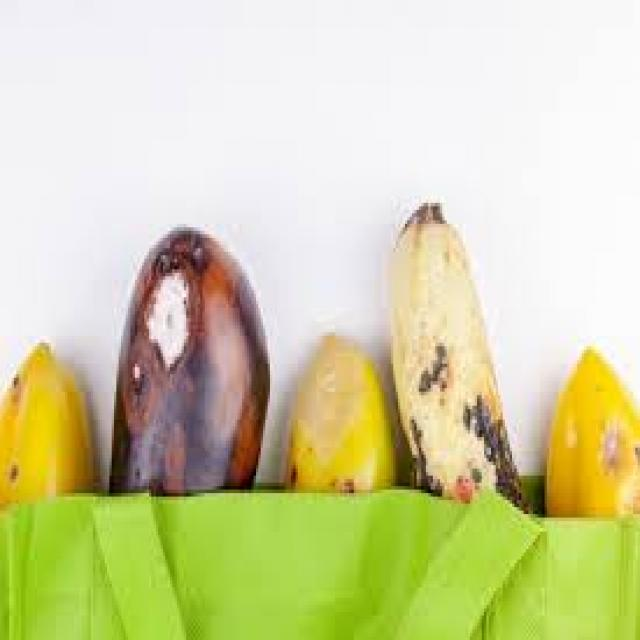organic waste: (386, 196, 526, 504), (107, 223, 268, 490), (282, 325, 396, 490), (544, 342, 638, 518), (0, 335, 95, 496)
